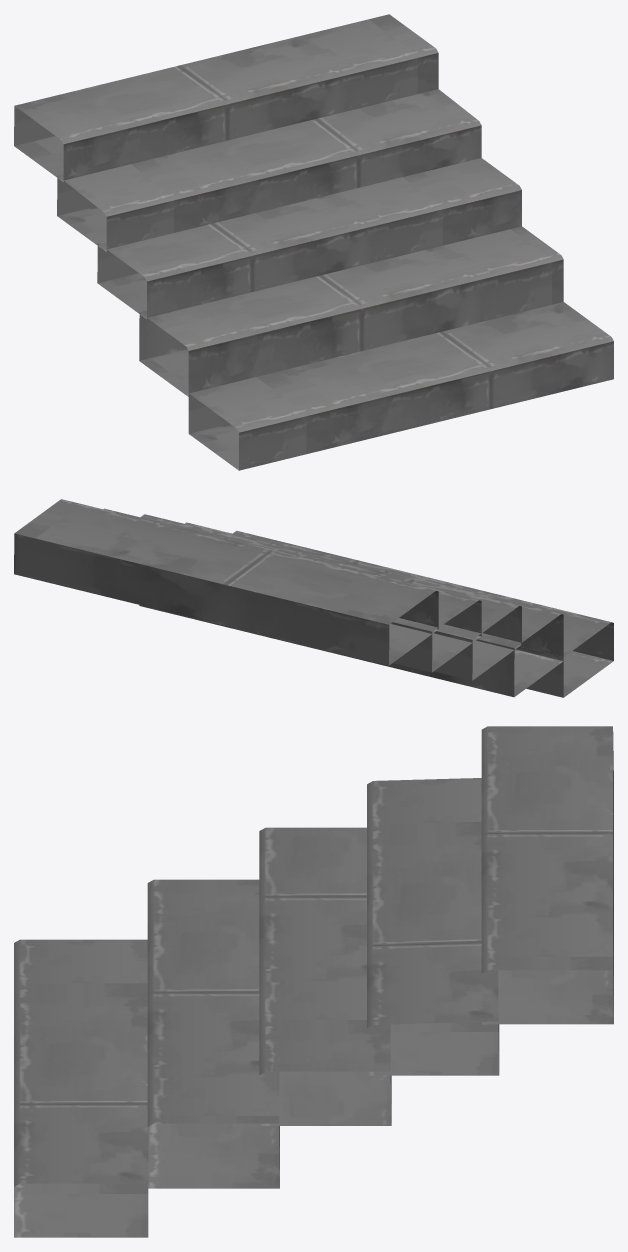
Rendered from Stairs_Exterior_Straight_Center.gltf.
3 views of the same model, one above another, from view 1: azimuth 30°, elevation 25°; view 2: azimuth 150°, elevation 25°; view 3: azimuth 270°, elevation 25° (orthographic). The views are drawn at different scales.
Visible parts, largest first — view 1: Stairs_Exterior_Straight_Center; view 2: Stairs_Exterior_Straight_Center; view 3: Stairs_Exterior_Straight_Center.
Boxes of the visible parts, <box> form: Stairs_Exterior_Straight_Center: <box>14,14,613,470</box>; Stairs_Exterior_Straight_Center: <box>14,499,613,697</box>; Stairs_Exterior_Straight_Center: <box>14,726,613,1237</box>.
Size of the model in its own units: 2 by 1.02 by 2.08.
1 material, 1 textured.
